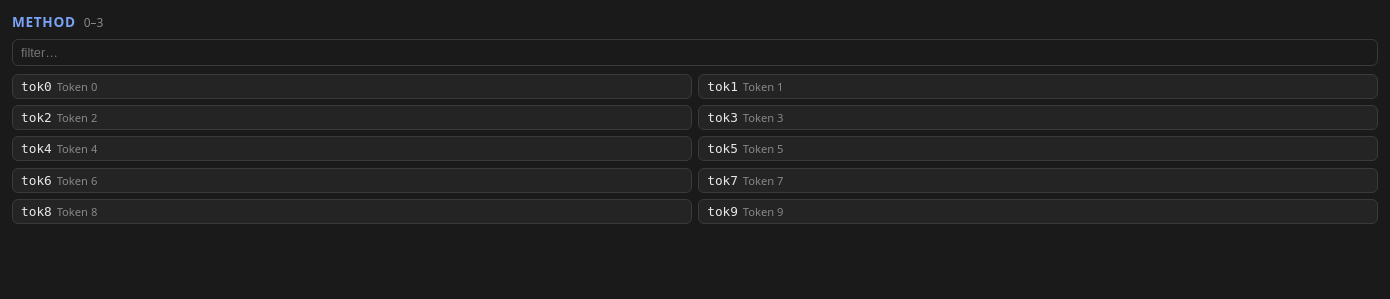
Test: TokenSelector — focus returning to filter clears chip focus and closes panel › focusing filter input while chip is focused closes the metadata panel
Expected: the field with class "filter-input" is shown, [12,39,1378,66]
Focus the option "tok0 Token 0" at (36, 86), box [12,74,692,99]
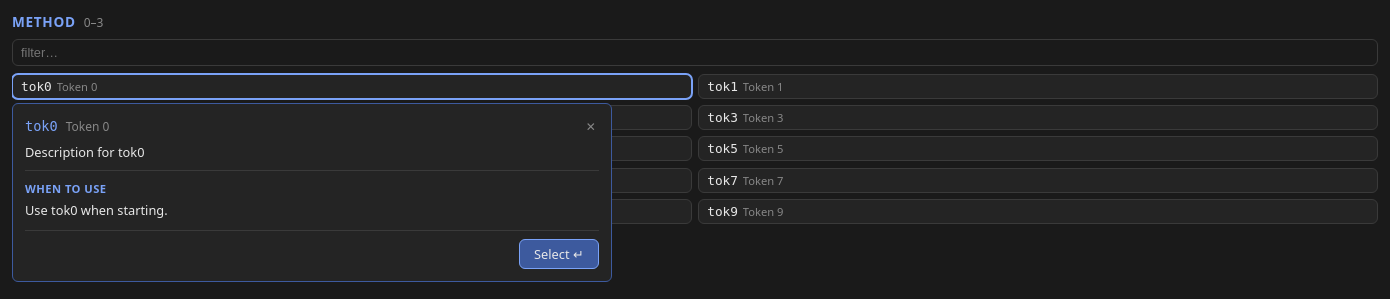
Expected: the text "When to use" is shown, [25,181,106,196]
Focus the field with class "filter-input" at (695, 52), box [12,39,1378,66]
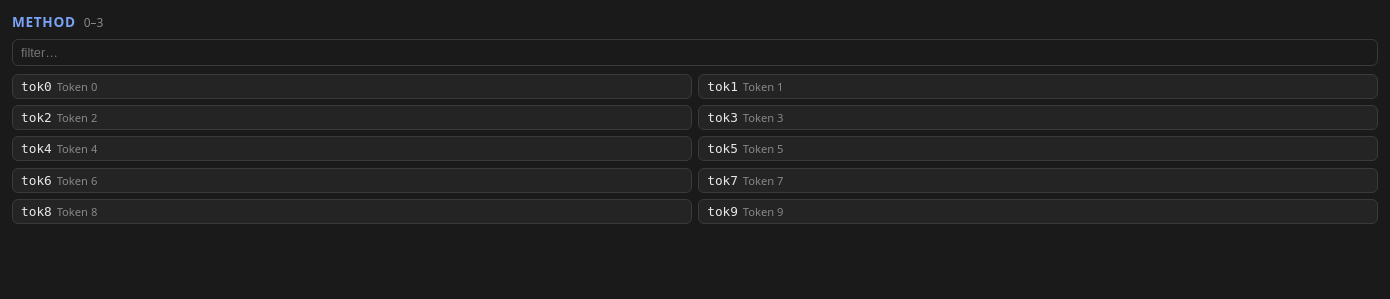
Expected: the text "When to use" is gone
